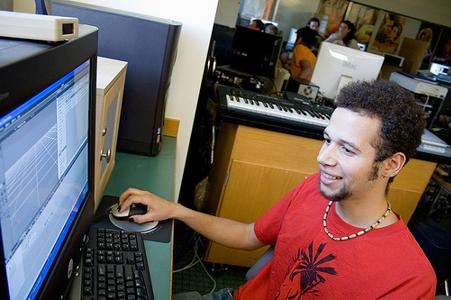person: (118, 80, 437, 300)
